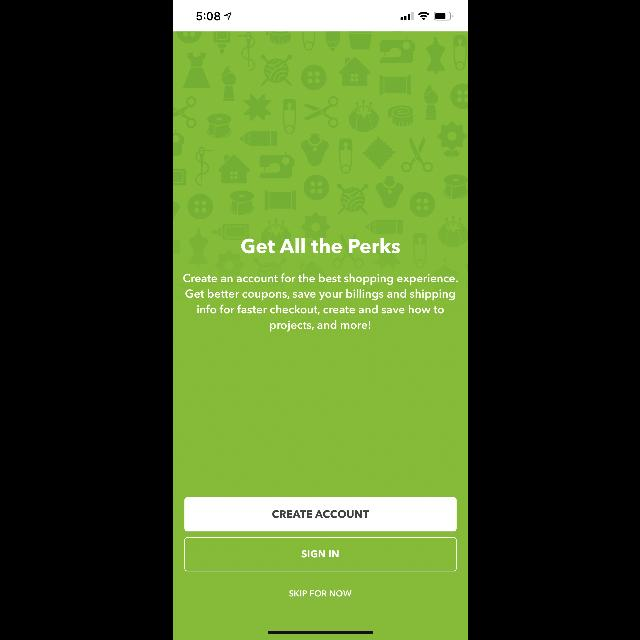backgroundimage: (172, 32, 468, 640)
text: (182, 274, 458, 332), (240, 238, 400, 254), (289, 590, 351, 598)
textbutton: (184, 537, 456, 571), (184, 497, 456, 531)
uppertaskbar: (196, 12, 452, 21)
